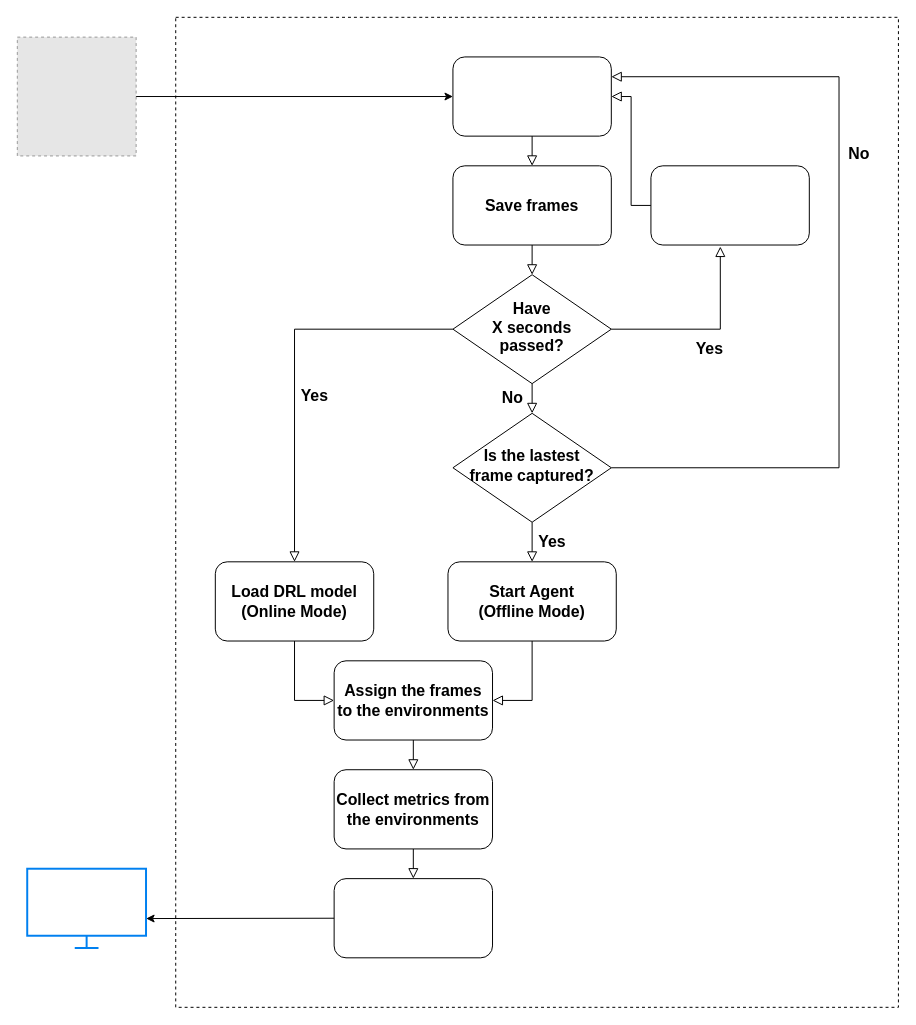
This 916x1025 diagram has some shape labels left out. Grey dashed boxes stand in for pictures. The centre of each missing label's shape, as x and y in pixels:
Output processed frames: pixel 413 918
Read frames: pixel 531 96
Reset X counter: pixel 729 205
